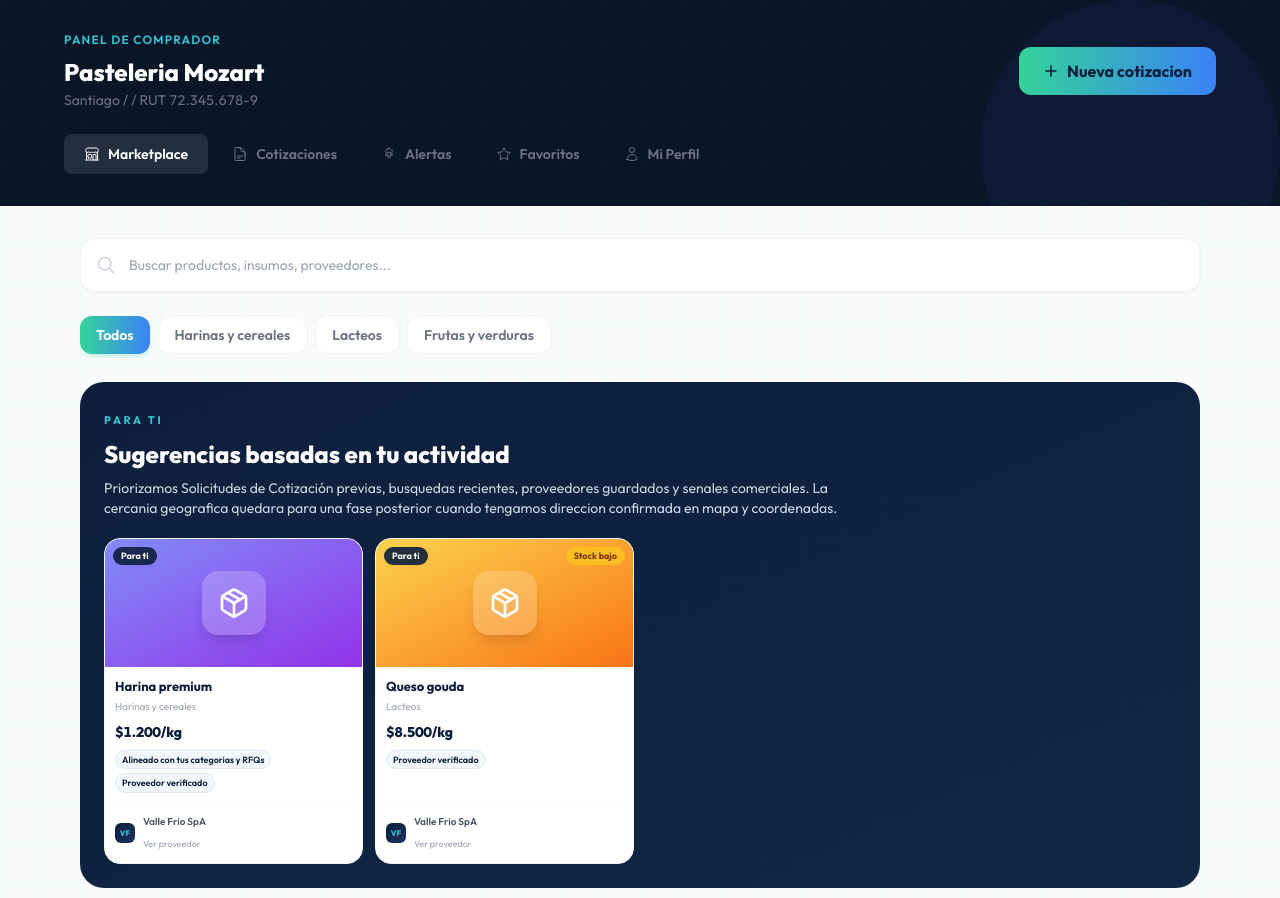
Test: BuyerDashboard › muestra en cotizaciones la empresa a la que se pidio la solicitud directa
Click the button "Cotizaciones".
click(284, 154)  # box [212, 134, 357, 174]
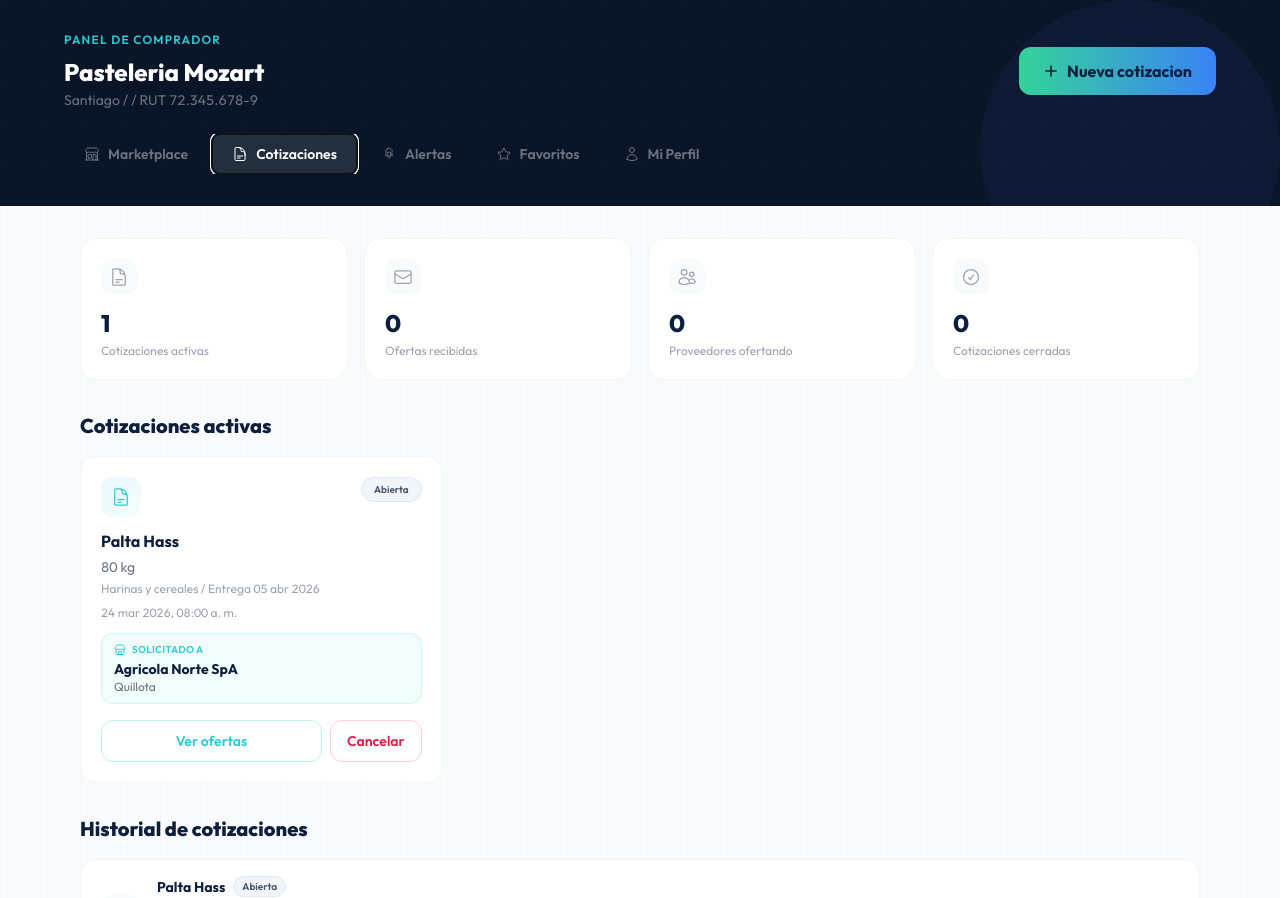
Check: the text "Solicitado a" is shown, box [114, 643, 204, 656]
Check: the text "Agricola Norte SpA" is shown, box [114, 660, 238, 678]
